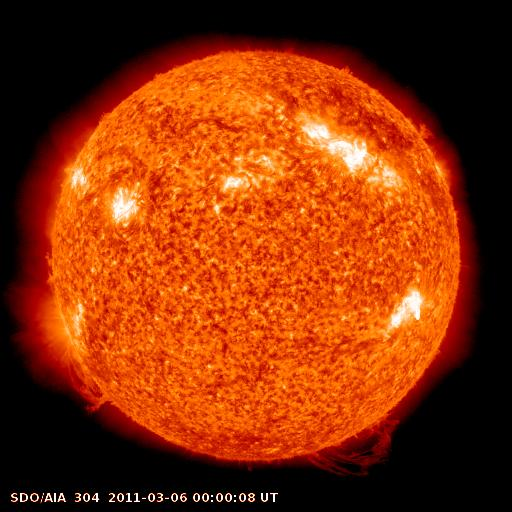prominence: (295, 403, 409, 491), (50, 348, 129, 422), (410, 107, 450, 158), (36, 237, 65, 292)
